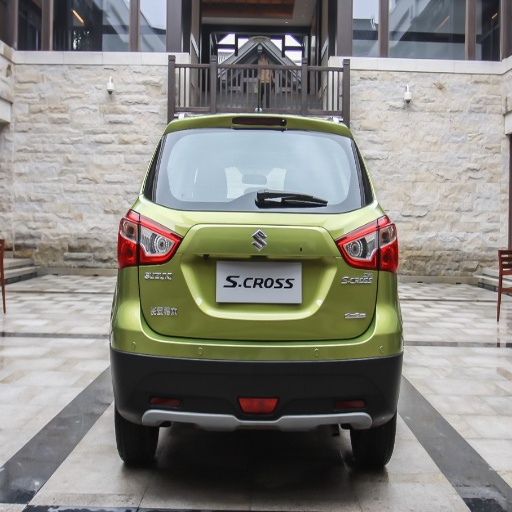back_bumper: (109, 269, 397, 432)
trunk: (138, 204, 378, 341)
